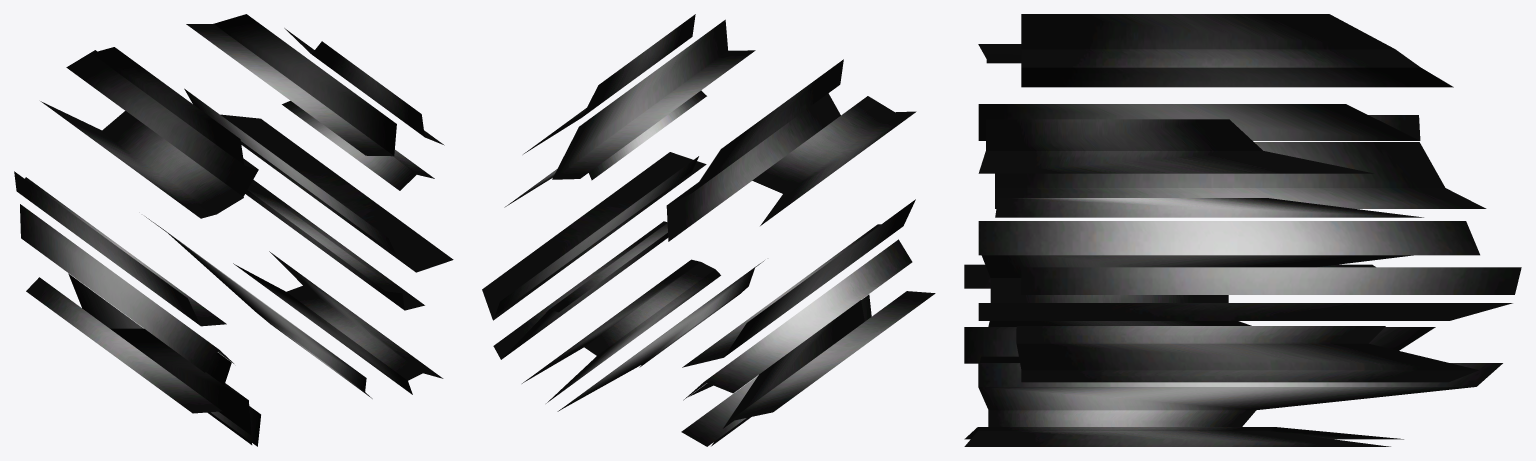
The model's file is vfx_kurp_0217.dae.
3 views of the same model, side by side, from view 1: azimuth 30°, elevation 25°; view 2: azimuth 150°, elevation 25°; view 3: azimuth 270°, elevation 25° (orthographic). The views are drawn at different scales.
Parts seen in each view (by area): view 1: vfx_kurp_0217; view 2: vfx_kurp_0217; view 3: vfx_kurp_0217.
Boxes of the visible parts, x1,y1,x2,y2 form: vfx_kurp_0217: (14, 14, 453, 446); vfx_kurp_0217: (482, 14, 935, 446); vfx_kurp_0217: (964, 14, 1521, 446).
Size of the model in its own units: 10.52 by 15.58 by 11.01.
Materials: 1 (1 with a texture image).
